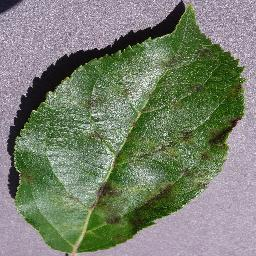apple healthy: (9, 0, 246, 255)
